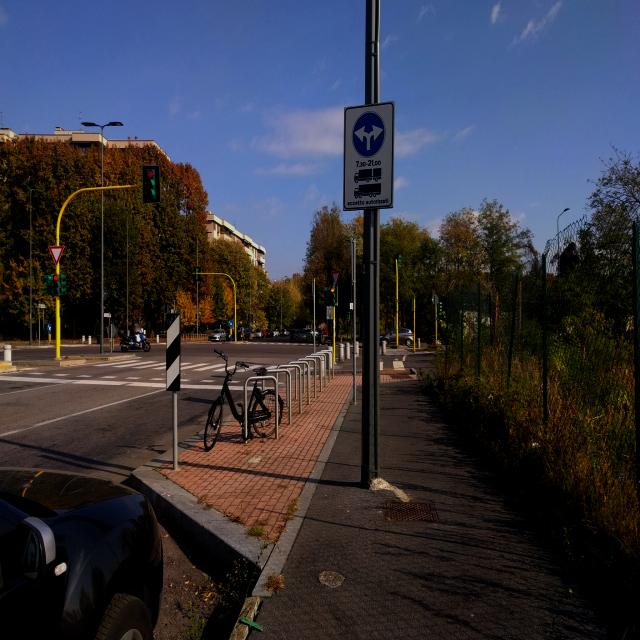car: (382, 327, 417, 348), (120, 332, 151, 352), (209, 328, 227, 342), (240, 326, 251, 340), (254, 328, 264, 339), (289, 330, 298, 340)
